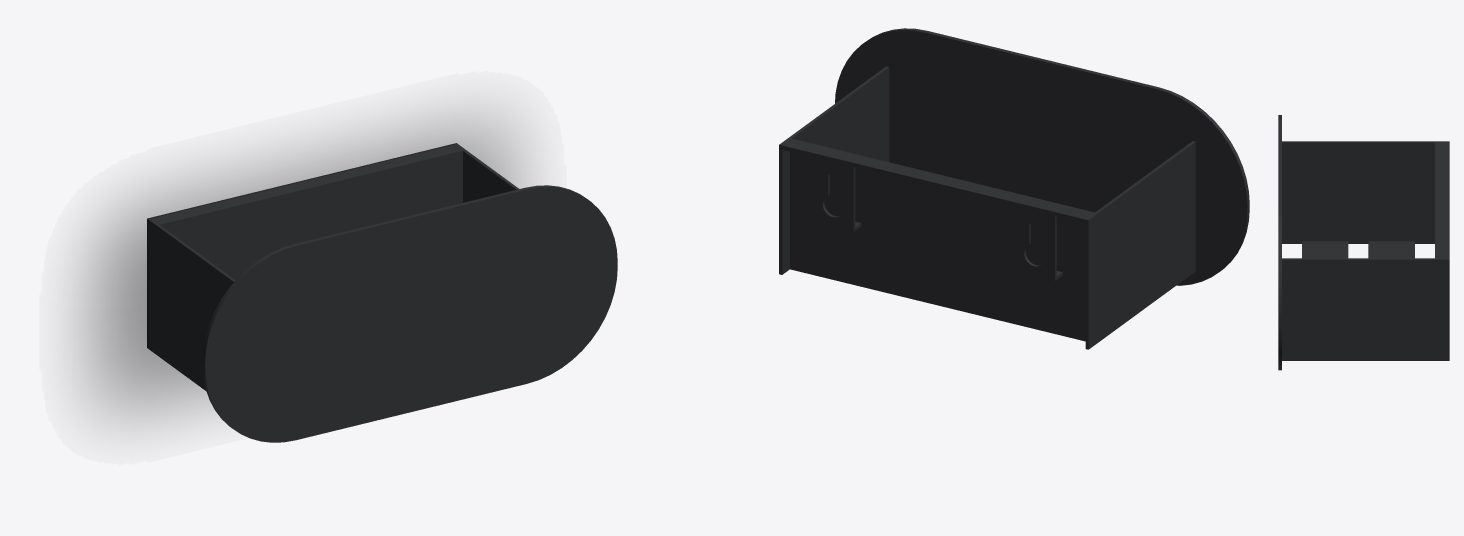
Rendered from round-mono.5459ba9be0.ar.glb.
3 views of the same model, side by side, from view 1: azimuth 30°, elevation 25°; view 2: azimuth 150°, elevation 25°; view 3: azimuth 270°, elevation 25° (orthographic). The views are drawn at different scales.
Parts seen in each view (by area): view 1: NAUO1, object 2; view 2: NAUO1; view 3: NAUO1.
Part boxes in pixels (x1,y1,x2,y2): NAUO1: (147, 143, 617, 442); object 2: (79, 117, 526, 418); NAUO1: (779, 28, 1249, 349); NAUO1: (1278, 115, 1449, 370).
Size of the model in its own units: 0.28 by 0.17 by 0.092.
2 materials, 1 textured.
